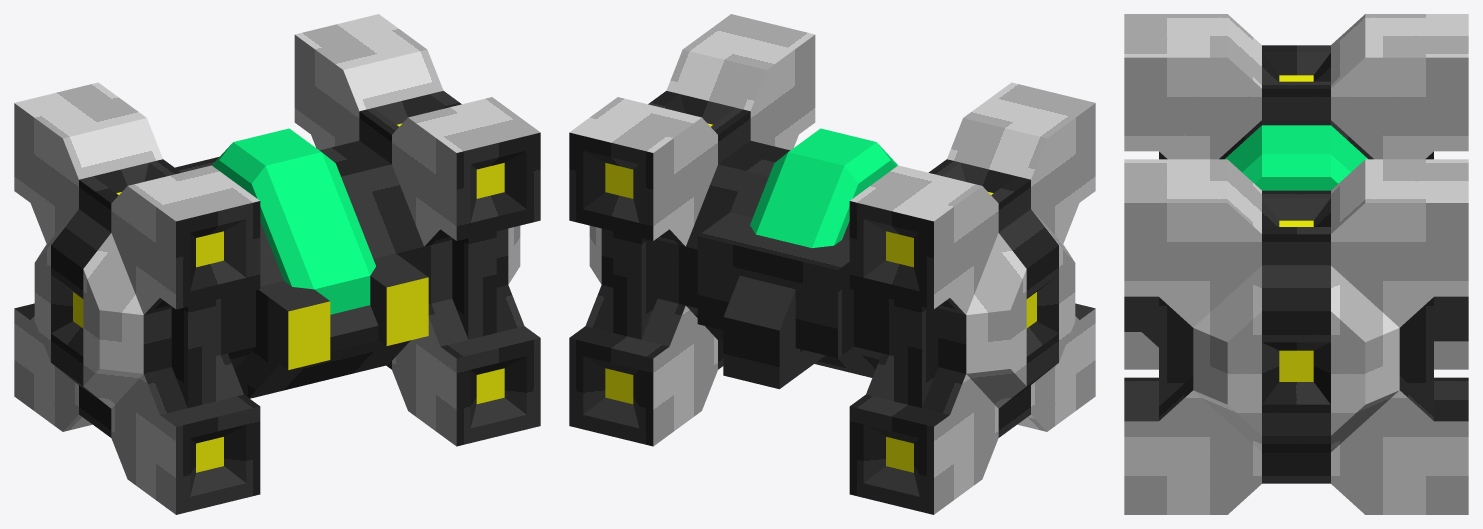
The model's file is spacecraft.glb.
3 renders of one model, left to right at view 1: azimuth 30°, elevation 25°; view 2: azimuth 150°, elevation 25°; view 3: azimuth 270°, elevation 25°, orthographic. The views are drawn at different scales.
Visible parts, largest first — view 1: SpaceCar; view 2: SpaceCar; view 3: SpaceCar.
Boxes of the visible parts, x1,y1,x2,y2 form: SpaceCar: (14,14,540,514); SpaceCar: (569,14,1095,514); SpaceCar: (1124,14,1468,514).
Bounding box in the file's own units: 6 × 4 × 4.
1 material, 1 textured.
